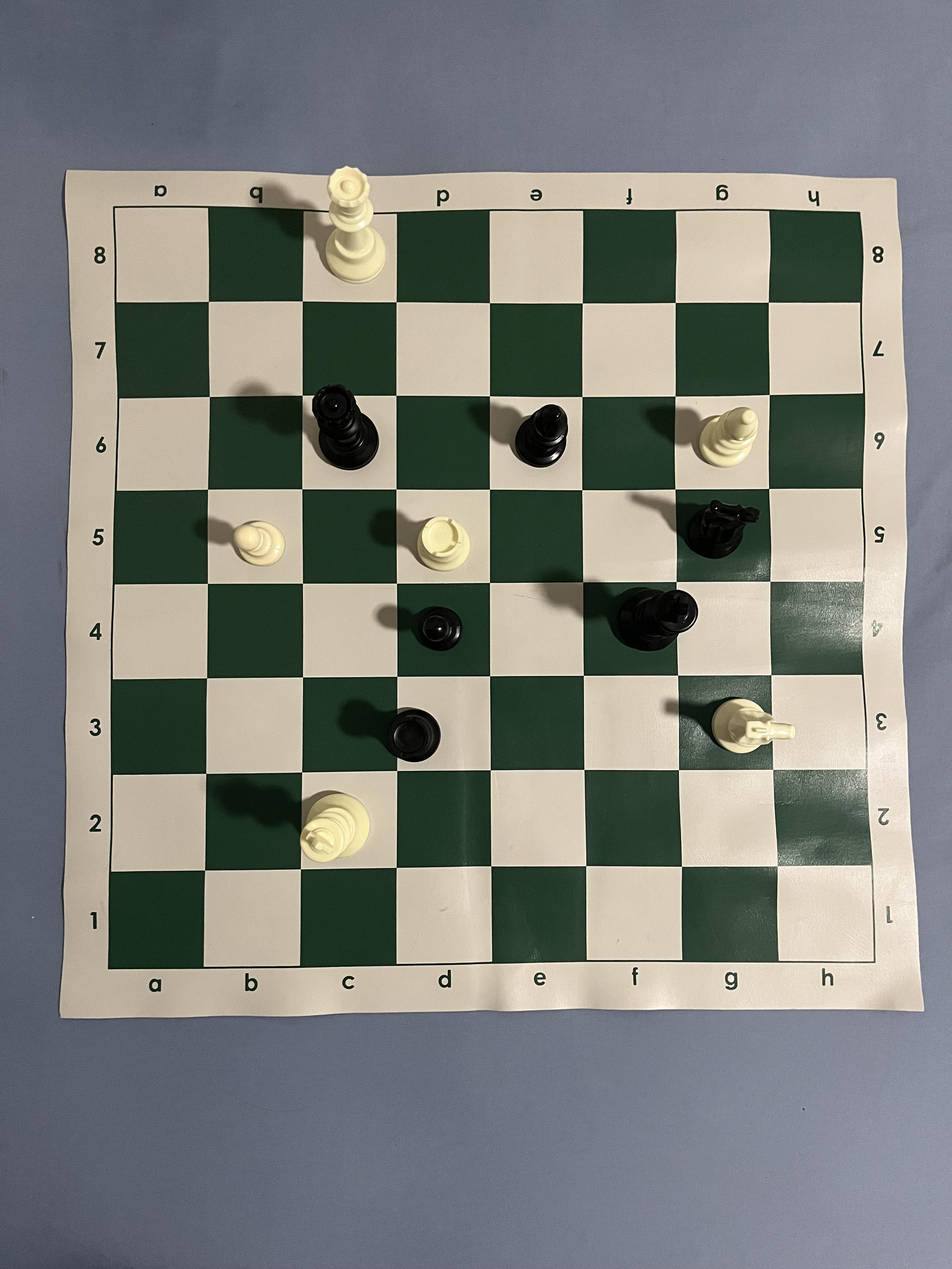black_bishop: (514, 403, 569, 468)
black_king: (614, 587, 699, 652)
black_knight: (685, 499, 761, 560)
black_pawn: (414, 606, 464, 652)
black_queen: (311, 384, 379, 471)
black_rook: (387, 707, 443, 764)
white_bishop: (697, 405, 760, 468)
white_king: (298, 791, 371, 865)
white_knight: (711, 697, 797, 755)
white_pawn: (230, 519, 287, 568)
white_queen: (324, 166, 387, 285)
white_rook: (416, 516, 471, 573)
